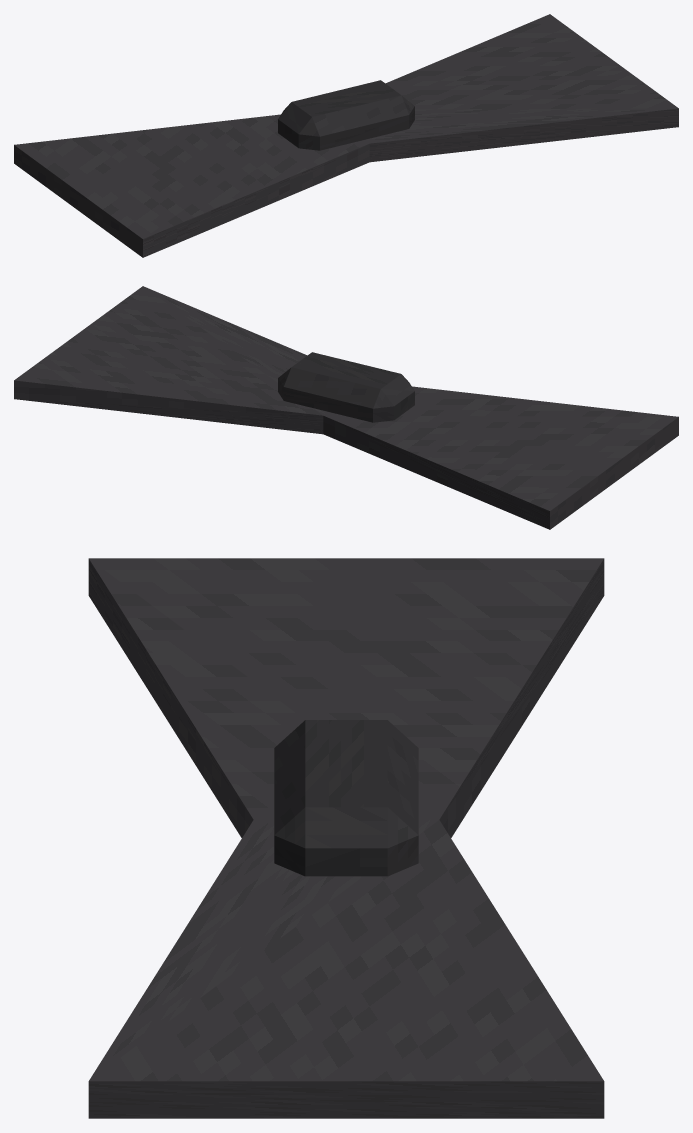
File: tie_bow.glb
3 renders of one model, top to bottom at view 1: azimuth 30°, elevation 25°; view 2: azimuth 150°, elevation 25°; view 3: azimuth 270°, elevation 25°, orthographic. The views are drawn at different scales.
Parts seen in each view (by area): view 1: block_silk panel -1, block_silk panel 1, block_knot; view 2: block_silk panel -1, block_silk panel 1, block_knot; view 3: block_silk panel 1, block_silk panel -1, block_knot.
Part boxes in pixels (bbox=[...]): block_silk panel -1: bbox=[14, 114, 369, 257]; block_silk panel 1: bbox=[365, 14, 678, 162]; block_knot: bbox=[278, 80, 414, 150]; block_silk panel -1: bbox=[323, 386, 678, 529]; block_silk panel 1: bbox=[14, 286, 327, 434]; block_knot: bbox=[278, 352, 414, 422]; block_silk panel 1: bbox=[88, 819, 604, 1118]; block_silk panel -1: bbox=[88, 558, 604, 837]; block_knot: bbox=[274, 720, 418, 876].
Bounding box in the file's own units: 0.12 × 0.01 × 0.05.
Materials: 1 (1 with a texture image).
